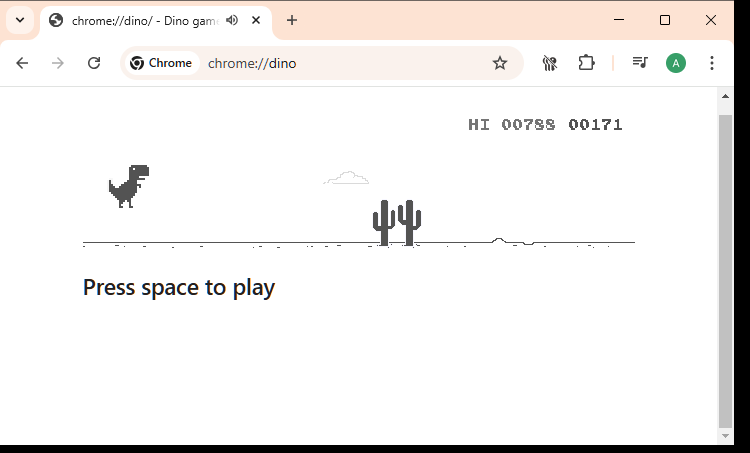cactus: (397, 199, 422, 247), (372, 199, 396, 246)
dino: (108, 164, 150, 209)
